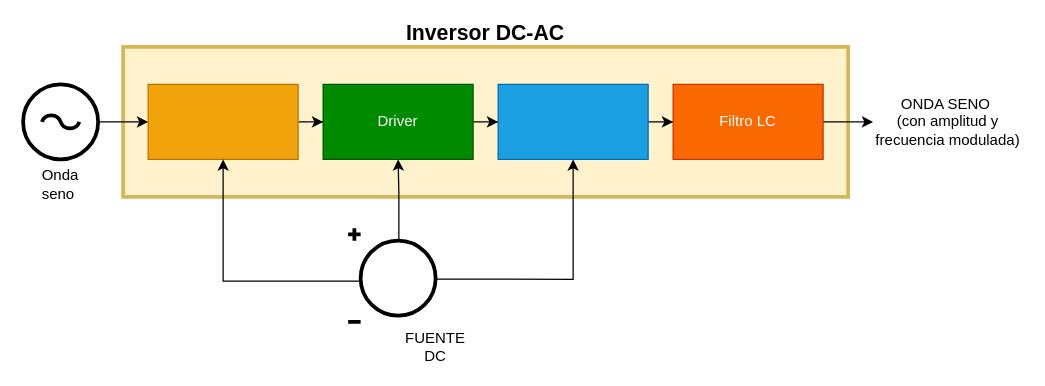
Some shapes in this 1045 by 386 pixel diagram are drawn without their labels. The centre of each missing label's shape, as x and y in pixels:
Controlador de PWM: the point at 222,121
Inversor de puente completo: the point at 572,121
